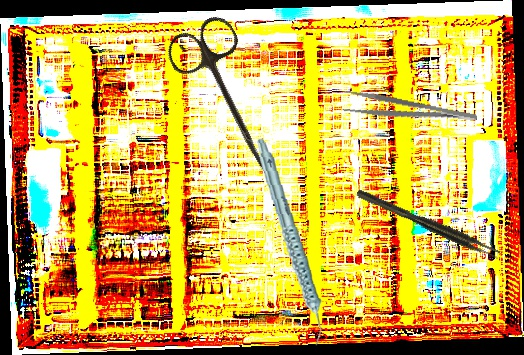Dressing Forceps: (342, 88, 478, 135)
Handpiece: (254, 134, 325, 350)
Iris Scissors: (160, 10, 301, 189)
Tissue Forceps: (355, 184, 504, 263)
